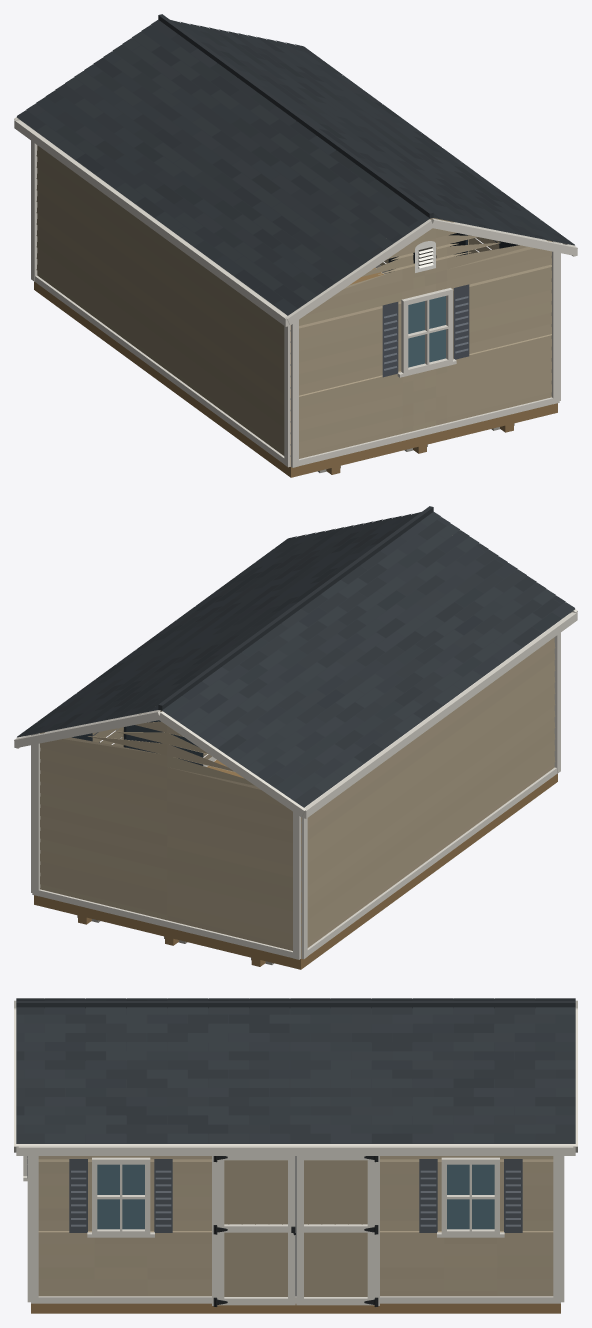
File: 03-elite-utility-shutters.glb
3 views of the same model, one above another, from view 1: azimuth 30°, elevation 25°; view 2: azimuth 150°, elevation 25°; view 3: azimuth 270°, elevation 25° (orthographic). The views are drawn at different scales.
Visible parts, largest first — view 1: Main roof, front wall, left wall, Floor platform and skids, front wall window, Louvered window shutters, right wall, front wall vent; view 2: Main roof, rear wall, left wall, Floor platform and skids, right wall, right wall double; view 3: Main roof, right wall, right wall double, right wall window, Louvered window shutters, Floor platform and skids, front wall, rear wall.
Boxes of the visible parts, bbox=[...] form: Main roof: bbox=[14, 14, 577, 326]; front wall: bbox=[291, 218, 559, 467]; left wall: bbox=[31, 140, 290, 467]; Floor platform and skids: bbox=[34, 268, 557, 477]; front wall window: bbox=[397, 288, 456, 377]; Louvered window shutters: bbox=[382, 240, 499, 377]; right wall: bbox=[375, 235, 560, 400]; front wall vent: bbox=[415, 241, 435, 272]; Main roof: bbox=[14, 506, 577, 818]; rear wall: bbox=[32, 710, 300, 959]; left wall: bbox=[301, 632, 560, 959]; Floor platform and skids: bbox=[34, 760, 557, 969]; right wall: bbox=[31, 727, 216, 892]; right wall double: bbox=[115, 720, 203, 765]; Main roof: bbox=[14, 998, 577, 1155]; right wall: bbox=[31, 1156, 560, 1303]; right wall double: bbox=[212, 1156, 379, 1306]; right wall window: bbox=[87, 1157, 504, 1237]; Louvered window shutters: bbox=[27, 1156, 522, 1232]; Floor platform and skids: bbox=[31, 1303, 560, 1313]; front wall: bbox=[27, 1156, 30, 1302]; rear wall: bbox=[561, 1156, 564, 1302].
Size of the model in its own units: 4 by 3.23 by 6.49.
